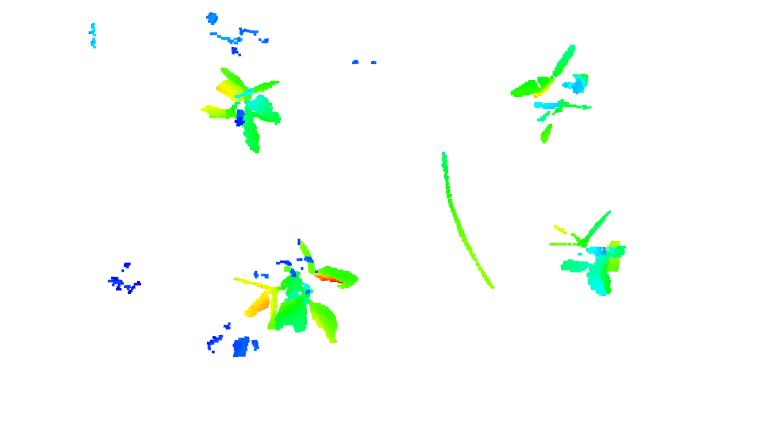mungbean: (230, 234, 357, 351), (535, 205, 644, 300), (508, 40, 602, 143), (202, 65, 284, 159)
